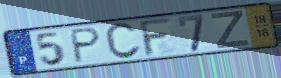5: (36, 30, 68, 67)
7: (175, 12, 207, 54)
C: (103, 21, 143, 61)
F: (137, 16, 174, 58)
P: (70, 26, 103, 65)
Z: (209, 9, 252, 50)
